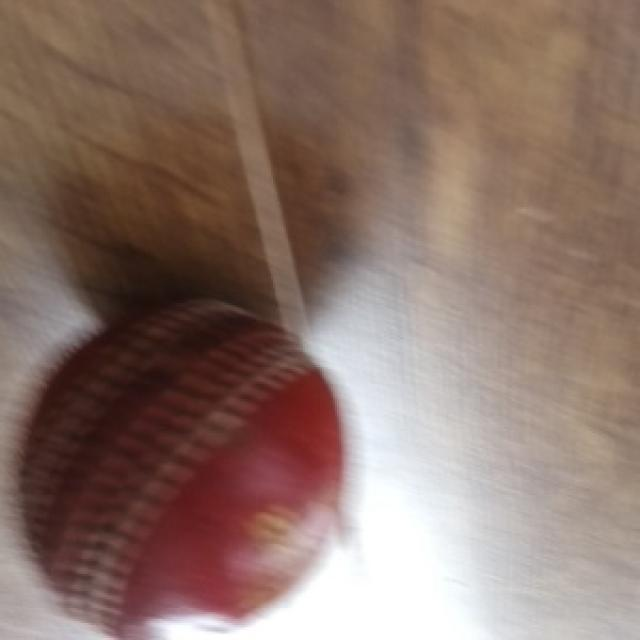ball: (0, 294, 350, 640)
